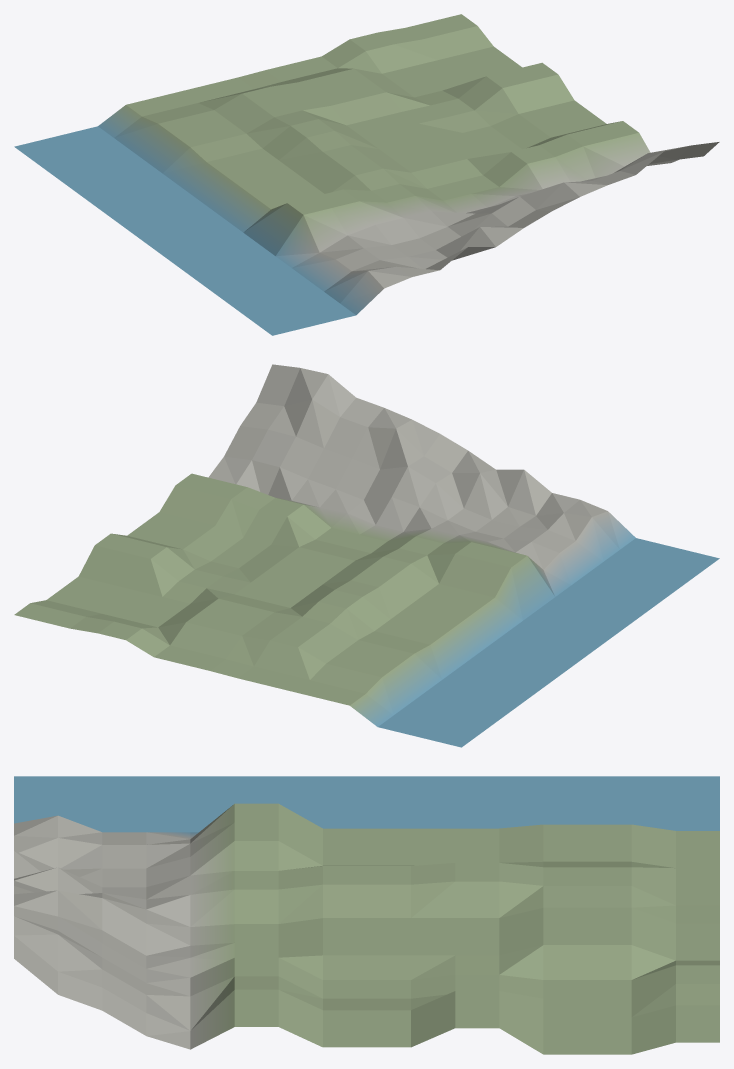
3 renders of one model, top to bottom at view 1: azimuth 30°, elevation 25°; view 2: azimuth 150°, elevation 25°; view 3: azimuth 270°, elevation 25°, orthographic. The views are drawn at different scales.
Size of the model in its own units: 32 by 6.07 by 32.
